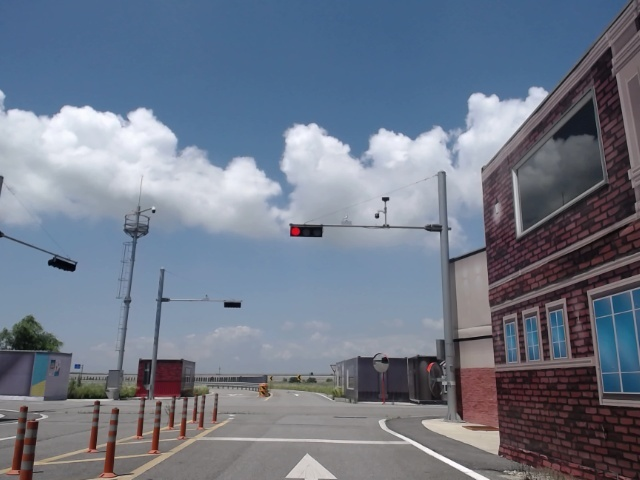red_3: (290, 225, 324, 238)
